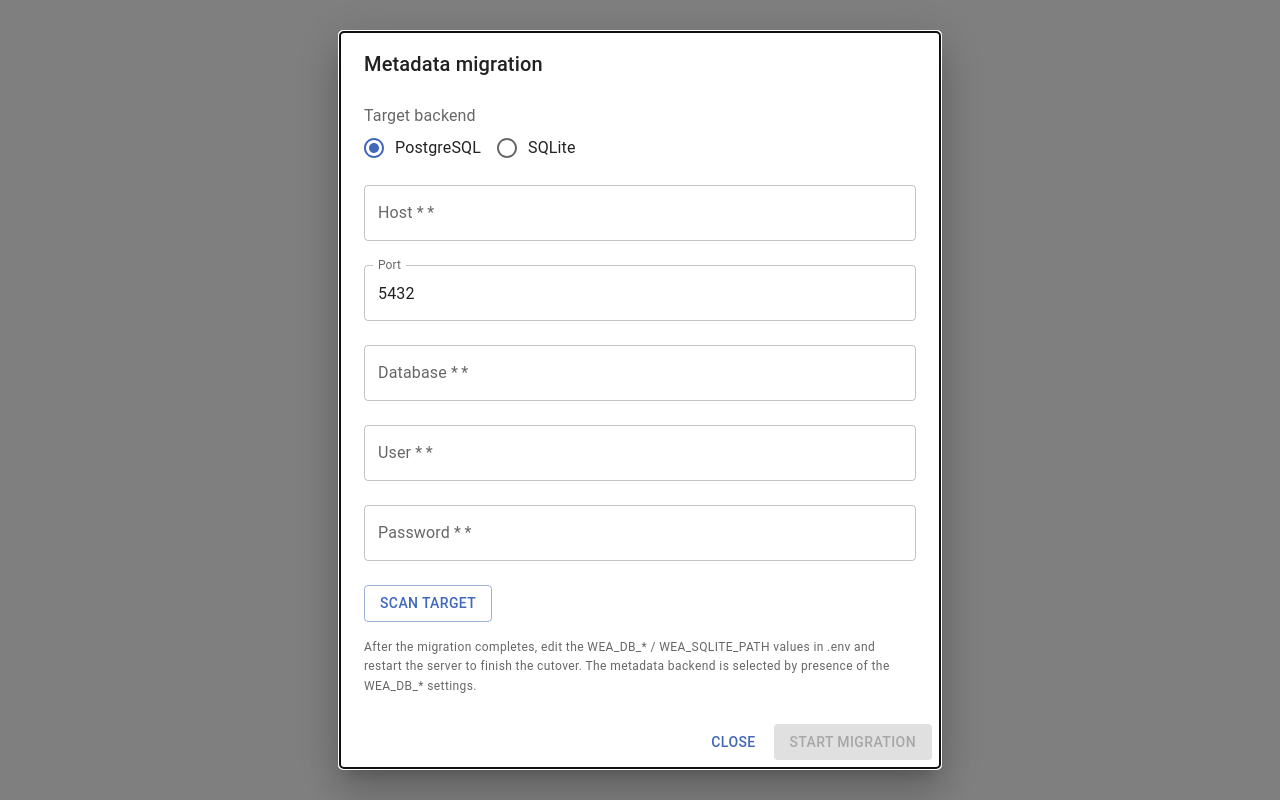
Test case: MetadataMigrationDialog › switches to the SQLite path field when the sqlite target is selected
The width and height of the screenshot is (1280, 800).
Expected: the field labelled "Host * *" is shown, [364,185,916,241]
Click the radio button labelled "SQLite". click: (535, 148)
box: [495,136,576,160]
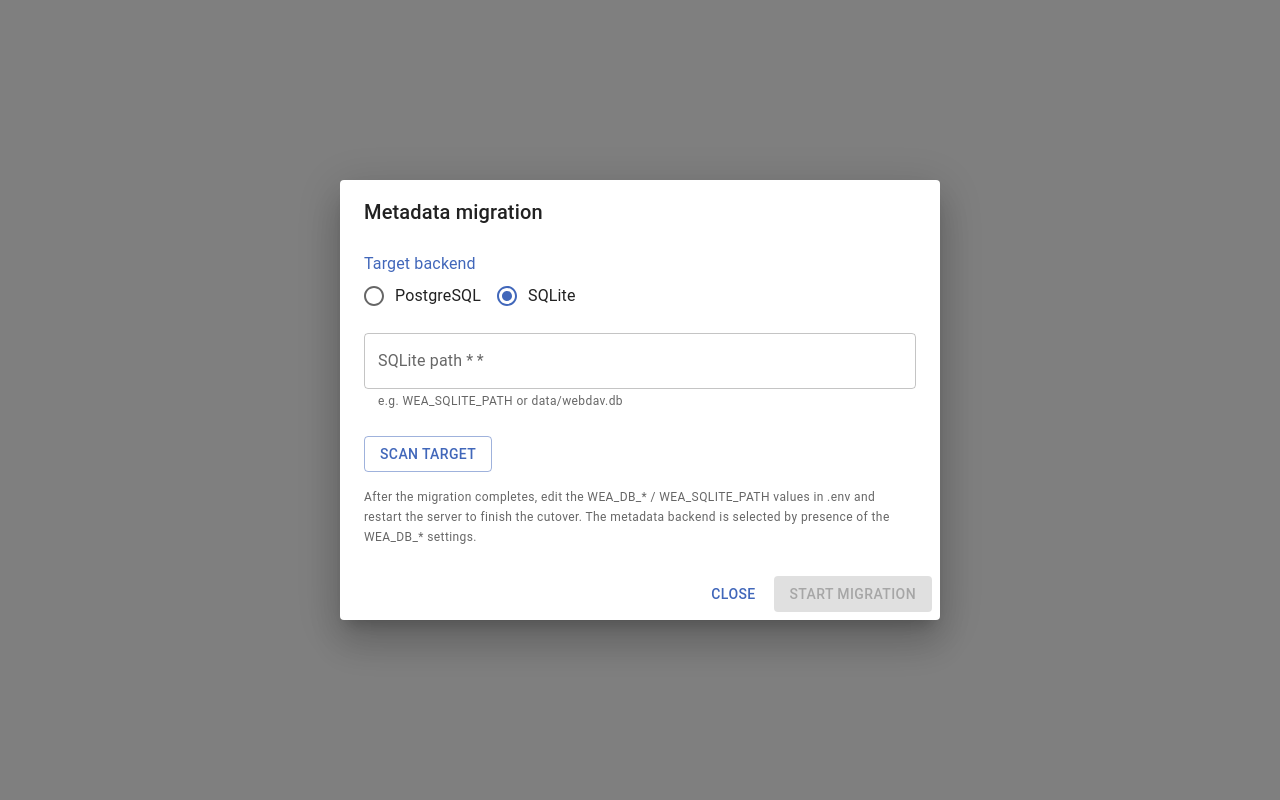
Now the field labelled "SQLite path * *" is shown, box [364,333,916,389]
Now the label labelled "Host *" is gone
